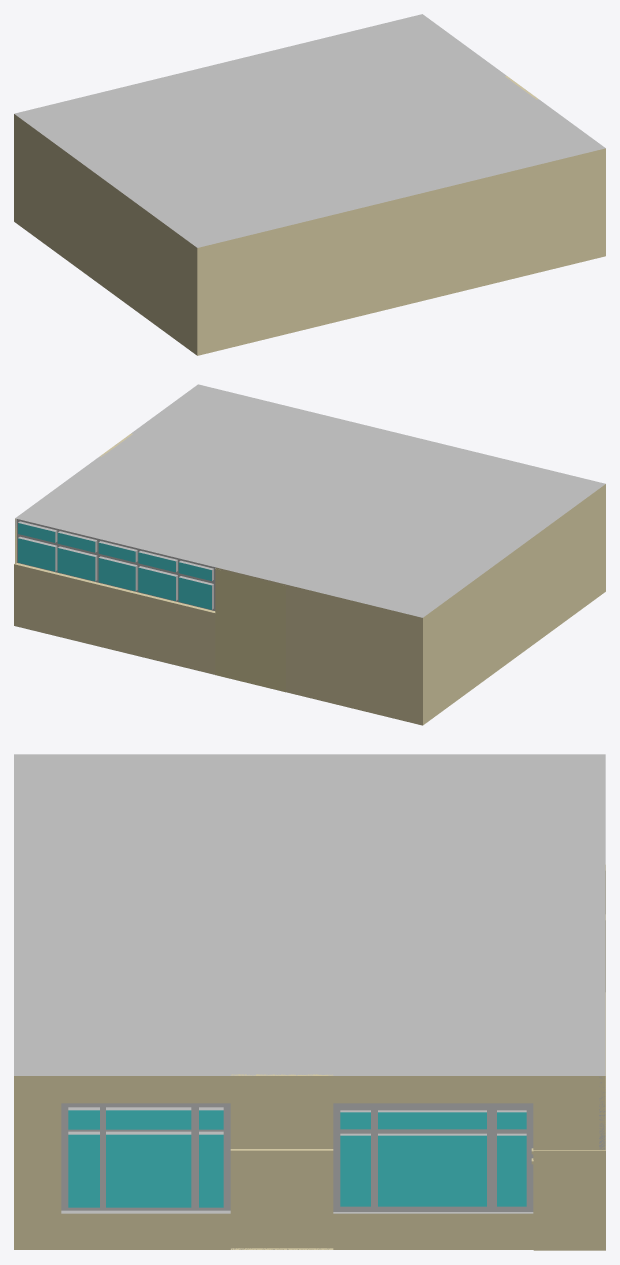
The model's file is nuevo lugar bien hecho.fbx.
3 renders of one model, top to bottom at view 1: azimuth 30°, elevation 25°; view 2: azimuth 150°, elevation 25°; view 3: azimuth 270°, elevation 25°, orthographic. The views are drawn at different scales.
Visible parts, largest first — view 1: tECHO, PAREDES, Ventana; view 2: tECHO, PAREDES, Cube.003, Ventana, Cube.002; view 3: tECHO, PAREDES, VentanaGrande, Cube.003, Ventana.
Part boxes in pixels (left/top/right/bottom): tECHO: left=14, top=14, right=605, bottom=247; PAREDES: left=14, top=76, right=605, bottom=355; Ventana: left=221, top=14, right=424, bottom=64; tECHO: left=16, top=384, right=605, bottom=617; PAREDES: left=15, top=433, right=605, bottom=725; Cube.003: left=14, top=563, right=215, bottom=674; Ventana: left=15, top=517, right=217, bottom=610; Cube.002: left=215, top=568, right=285, bottom=692; tECHO: left=14, top=754, right=605, bottom=1075; PAREDES: left=14, top=1074, right=605, bottom=1249; VentanaGrande: left=61, top=1103, right=533, bottom=1213; Cube.003: left=533, top=992, right=605, bottom=1250; Ventana: left=599, top=917, right=605, bottom=1150.
Bounding box in the file's own units: 6706 × 1690 × 5198.
